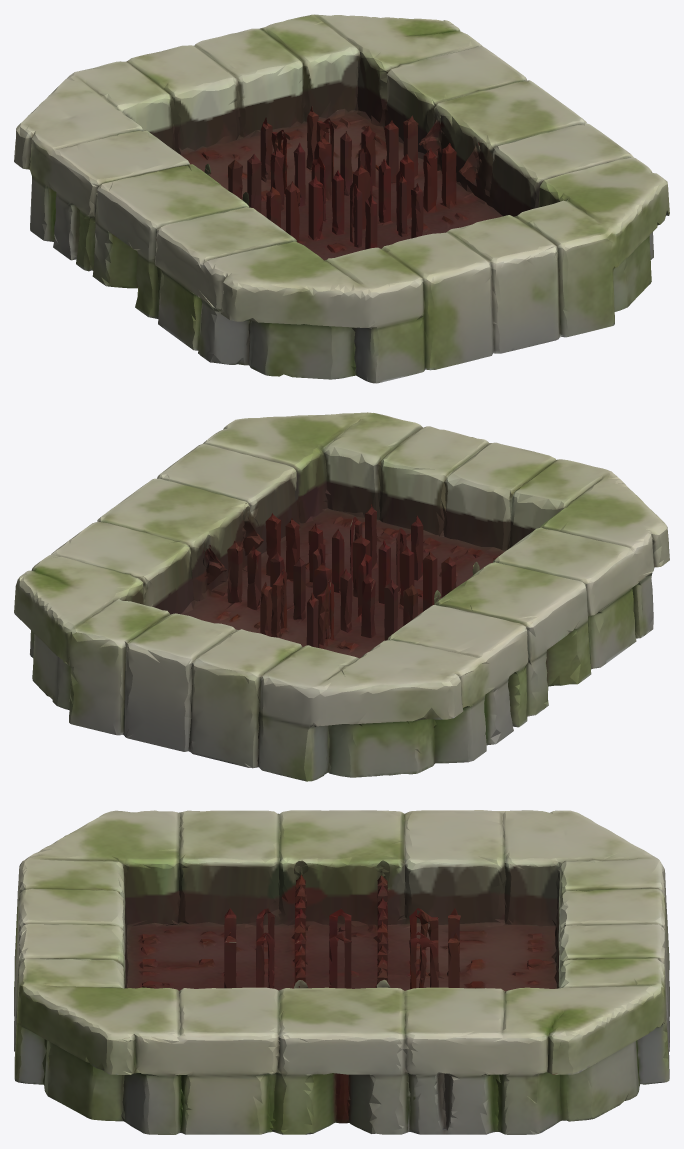
File: rodin_Lab_SpikeTrap_raw.glb
3 renders of one model, top to bottom at view 1: azimuth 30°, elevation 25°; view 2: azimuth 150°, elevation 25°; view 3: azimuth 270°, elevation 25°, orthographic. The views are drawn at different scales.
Visible parts, largest first — view 1: model; view 2: model; view 3: model.
Part boxes in pixels (box(x1,y1,x2,y2)): model: box(14, 14, 669, 383); model: box(14, 412, 669, 781); model: box(14, 810, 669, 1134).
Size of the model in its own units: 1.58 by 0.3173 by 1.89.
Materials: 1 (1 with a texture image).
